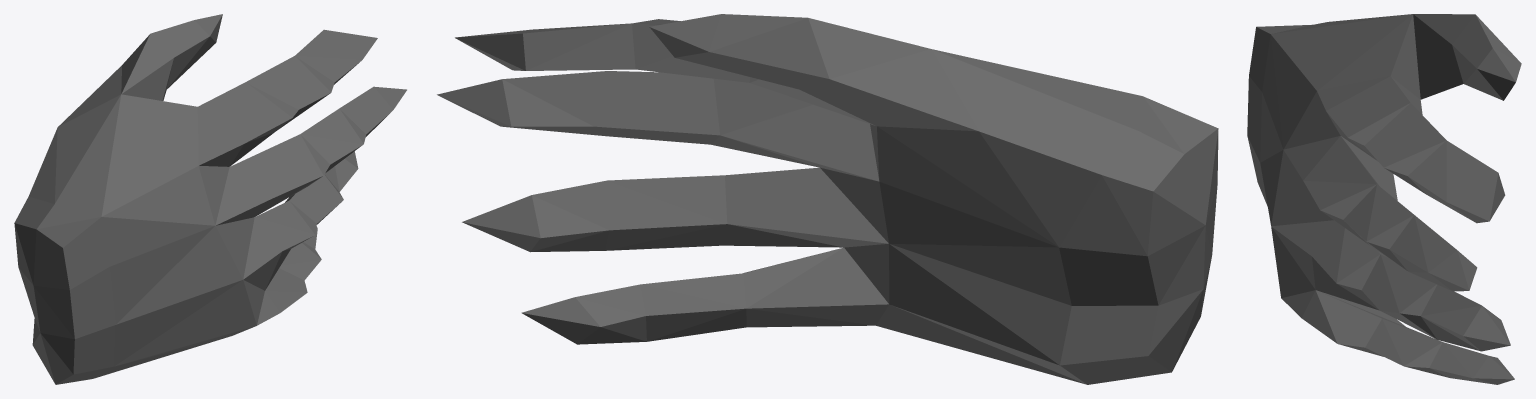
File: Hand_Open.fbx
The picture shows the model from 3 angles, left to right: view 1: azimuth 30°, elevation 25°; view 2: azimuth 150°, elevation 25°; view 3: azimuth 270°, elevation 25°; orthographic projection. The views are drawn at different scales.
Parts seen in each view (by area): view 1: Hand_Open; view 2: Hand_Open; view 3: Hand_Open.
Boxes of the visible parts, left/top/right/bottom form: Hand_Open: left=14, top=14, right=406, bottom=384; Hand_Open: left=437, top=14, right=1218, bottom=384; Hand_Open: left=1247, top=14, right=1521, bottom=384.
Bounding box in the file's own units: 62.92 × 35.86 × 29.01.
